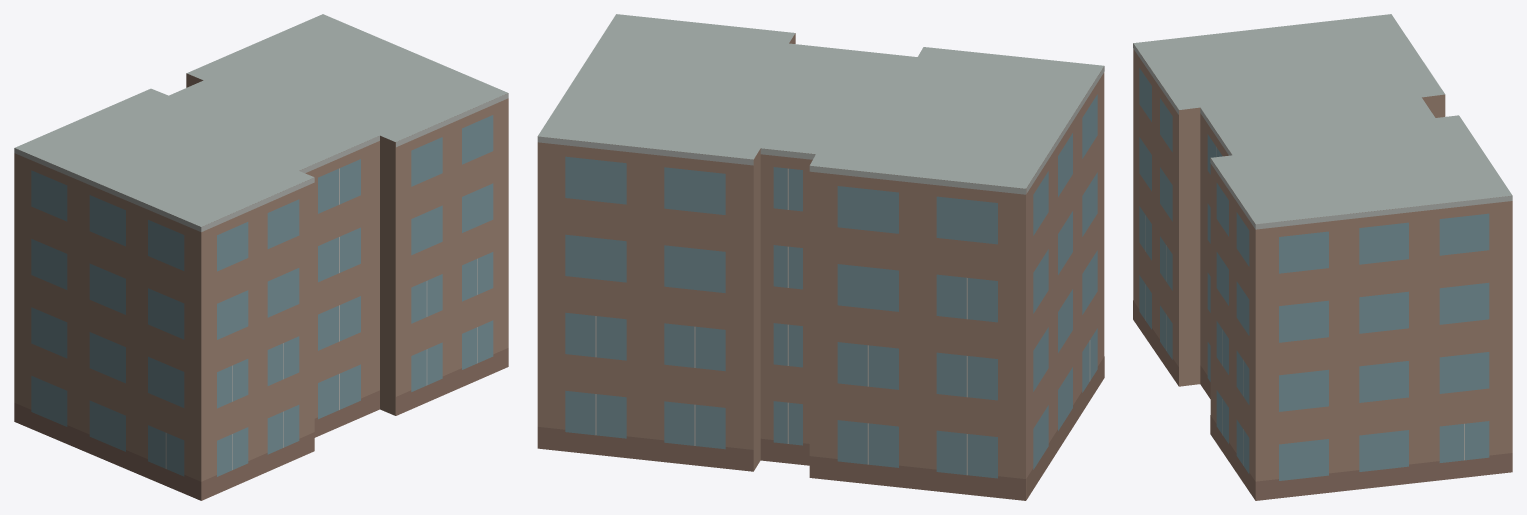
The model's file is survey-upis-32654539.glb.
3 views of the same model, side by side, from view 1: azimuth 30°, elevation 25°; view 2: azimuth 150°, elevation 25°; view 3: azimuth 270°, elevation 25° (orthographic). The views are drawn at different scales.
Visible parts, largest first — view 1: survey-upis-32654539.tmp; view 2: survey-upis-32654539.tmp; view 3: survey-upis-32654539.tmp.
Boxes of the visible parts, x1,y1,x2,y2 form: survey-upis-32654539.tmp: [14, 14, 508, 500]; survey-upis-32654539.tmp: [537, 14, 1104, 500]; survey-upis-32654539.tmp: [1133, 14, 1512, 500].
Size of the model in its own units: 20.89 by 12.8 by 15.93.
